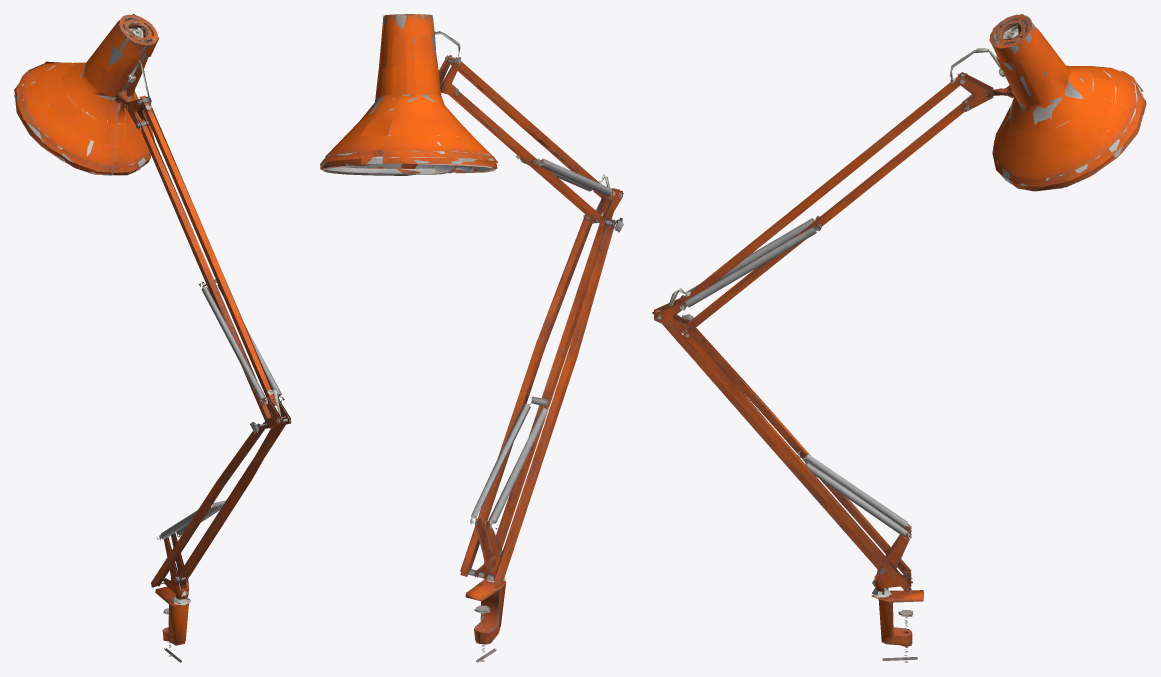
Rendered from desk_lamp_arm_01.glb.
3 views of the same model, side by side, from view 1: azimuth 30°, elevation 25°; view 2: azimuth 150°, elevation 25°; view 3: azimuth 270°, elevation 25° (orthographic). The views are drawn at different scales.
Parts seen in each view (by area): view 1: desk_lamp_arm_01; view 2: desk_lamp_arm_01; view 3: desk_lamp_arm_01.
Part boxes in pixels (left/top/right/bottom): desk_lamp_arm_01: left=14, top=14, right=291, bottom=662; desk_lamp_arm_01: left=320, top=14, right=623, bottom=662; desk_lamp_arm_01: left=652, top=14, right=1146, bottom=662.
Bounding box in the file's own units: 0.2017 × 0.8927 × 0.6157.
2 materials, 2 textured.
